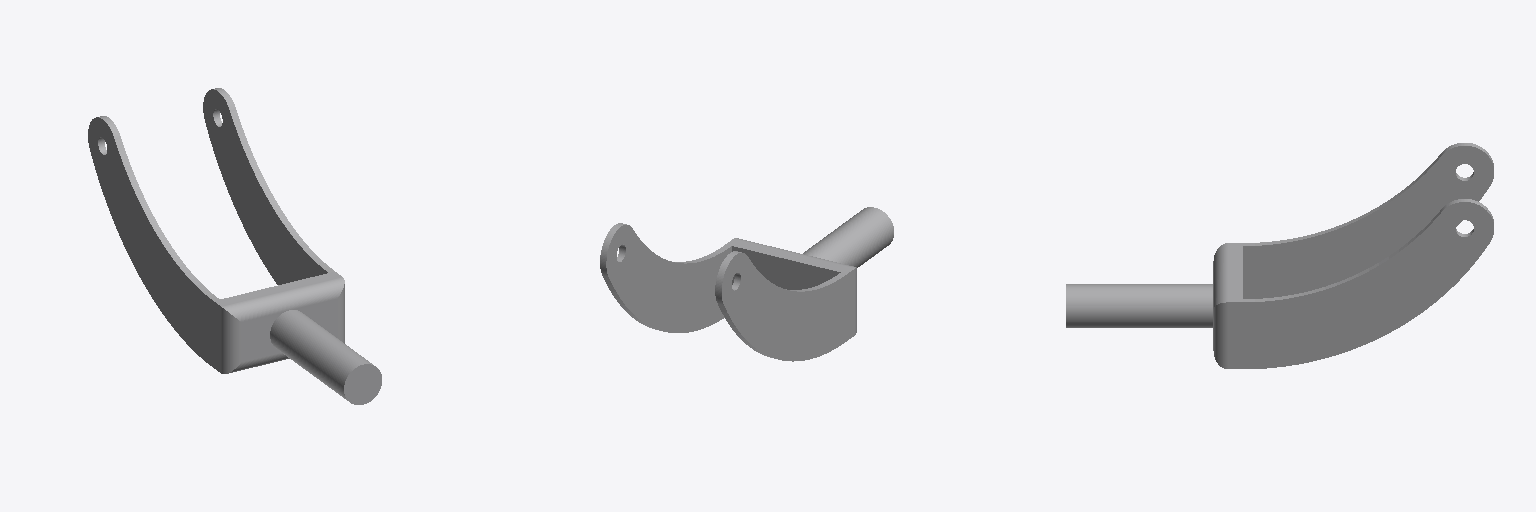
File: caster_right_visual.obj
3 views of the same model, side by side, from view 1: azimuth 30°, elevation 25°; view 2: azimuth 150°, elevation 25°; view 3: azimuth 270°, elevation 25° (orthographic).
Visible parts, largest first — view 1: caster_right_visual.001; view 2: caster_right_visual.001; view 3: caster_right_visual.001.
Boxes of the visible parts, x1=… form: caster_right_visual.001: x1=88, y1=88, x2=381, y2=404; caster_right_visual.001: x1=600, y1=207, x2=893, y2=361; caster_right_visual.001: x1=1066, y1=143, x2=1493, y2=368.
Size of the model in its own units: 0.0603 by 0.0794 by 0.1841.